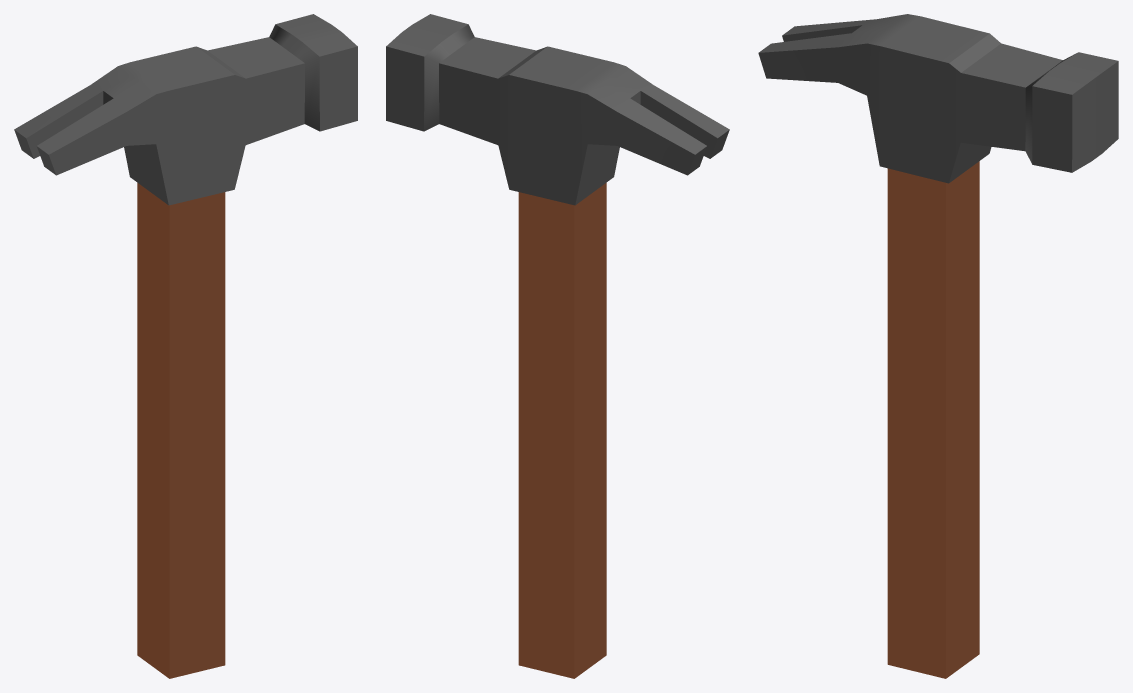
File: Marteau.fbx
3 renders of one model, left to right at view 1: azimuth 30°, elevation 25°; view 2: azimuth 150°, elevation 25°; view 3: azimuth 330°, elevation 25°, orthographic. The views are drawn at different scales.
Parts seen in each view (by area): view 1: Manche, Tete; view 2: Manche, Tete; view 3: Manche, Tete.
Part boxes in pixels (left/top/right/bottom): Manche: left=137, top=183, right=225, bottom=678; Tete: left=14, top=14, right=357, bottom=205; Manche: left=518, top=183, right=606, bottom=678; Tete: left=386, top=14, right=729, bottom=205; Manche: left=887, top=161, right=979, bottom=678; Tete: left=758, top=14, right=1118, bottom=183.
Bounding box in the file's own units: 22.22 × 41.27 × 5.59.
